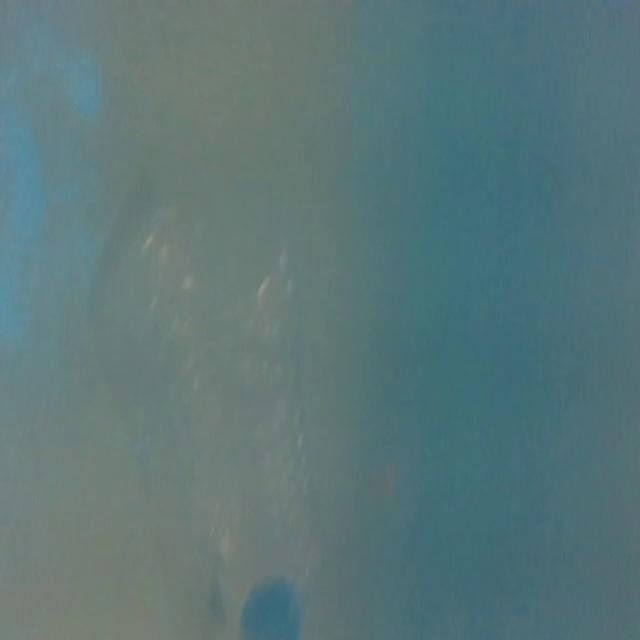plastic bottle: (107, 203, 342, 640)
